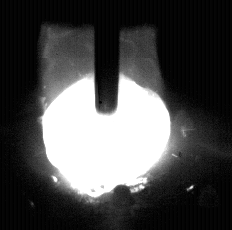arame: (95, 0, 119, 118)
poca: (42, 0, 172, 230)
